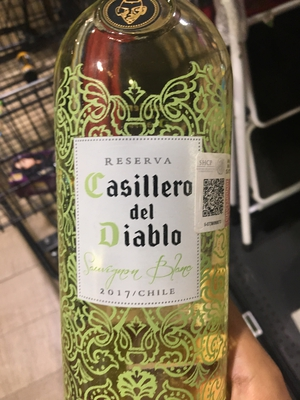casillero del diablo sauvignon blanc: (49, 12, 250, 400)
